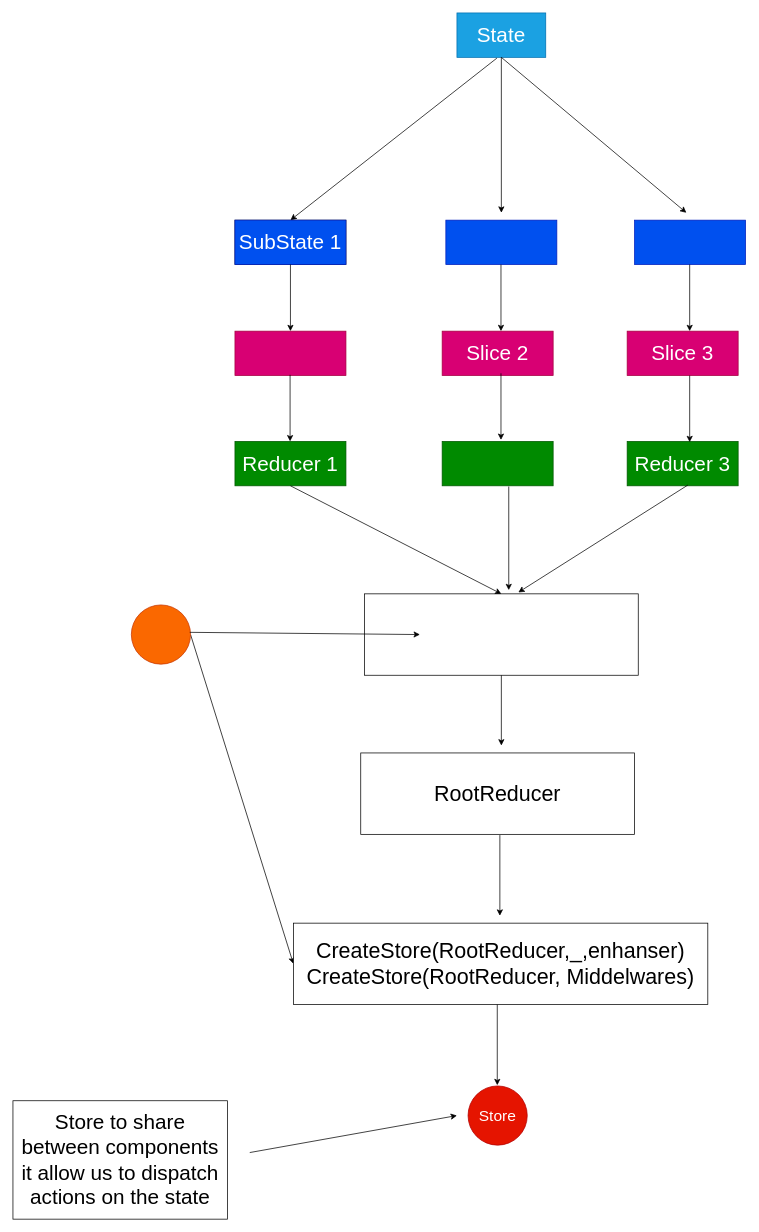
This 759x1232 diagram has some shape labels left out. The centre of each missing label's shape, as x and y in pixels:
CombineReducer: point 501,634
Reducer 2: point 497,463
Redux: point 161,634
Slice 1: point 290,353
SubState 2: point 501,242
SubState 3: point 690,242
